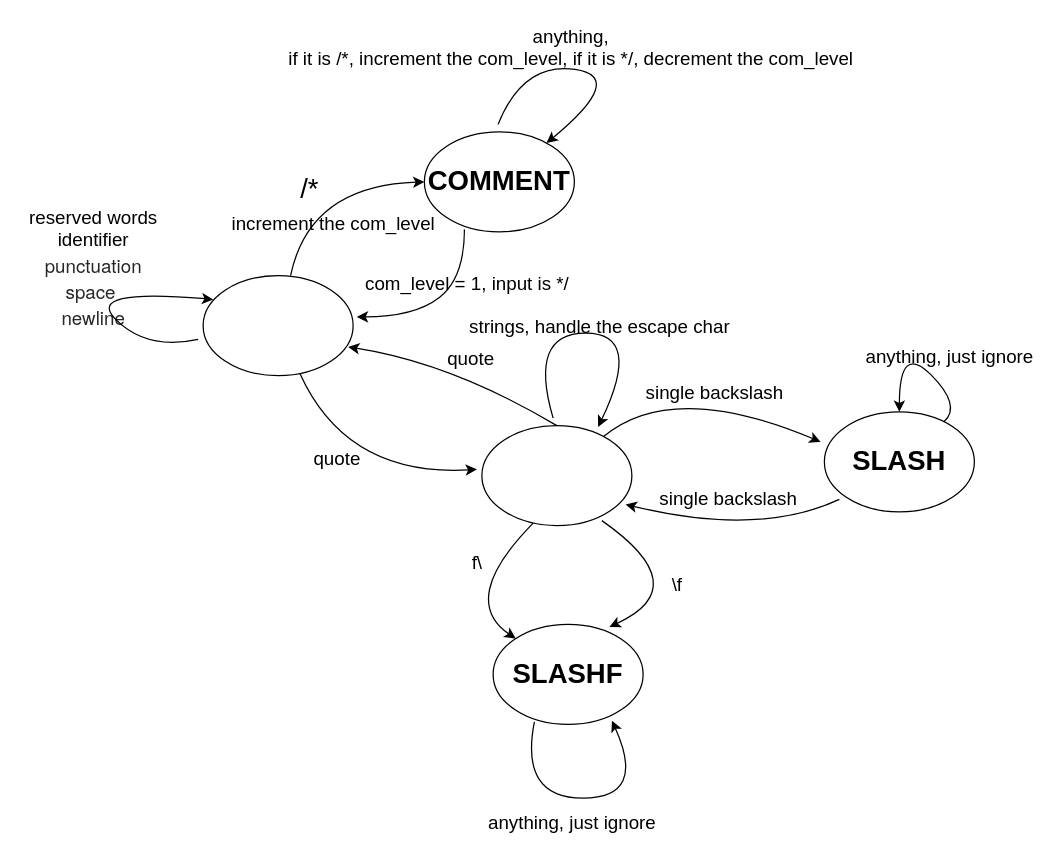
Image size: 1060x856. Some labels were removed from this diagram. Here are the shapes that lost their labels. From the top down, the box of each, then its label:
(202, 274, 353, 376): INITIAL
(481, 424, 632, 526): STRING
